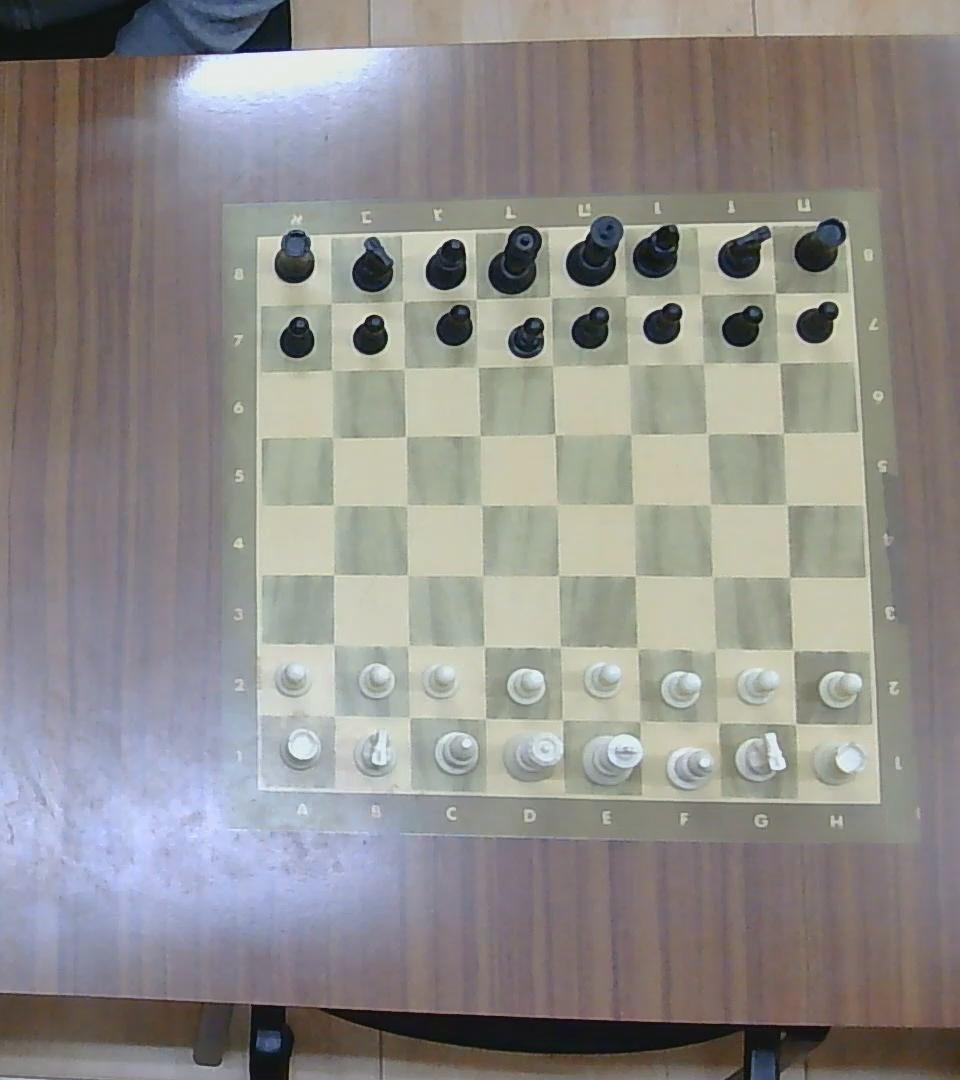xcorner: (777, 705, 811, 739), (619, 631, 653, 664), (622, 702, 656, 735), (701, 705, 734, 738), (545, 702, 578, 734), (543, 630, 575, 662), (696, 561, 729, 592), (318, 698, 350, 729), (469, 701, 500, 733), (392, 630, 423, 661), (774, 561, 805, 592), (698, 634, 730, 664), (619, 560, 650, 590), (393, 701, 423, 732), (468, 631, 499, 661), (776, 634, 807, 664), (543, 560, 573, 590), (317, 629, 347, 659), (467, 560, 496, 590), (319, 558, 348, 588), (619, 488, 649, 517), (459, 284, 489, 313), (542, 488, 572, 517), (535, 282, 565, 311), (615, 419, 645, 447), (393, 561, 422, 589), (611, 280, 639, 309), (537, 350, 566, 378), (464, 351, 492, 380), (319, 490, 348, 518), (467, 490, 495, 518), (614, 350, 642, 378), (316, 288, 345, 315), (772, 489, 801, 516), (317, 354, 345, 381), (317, 420, 345, 447), (695, 489, 723, 516), (540, 420, 568, 447), (693, 418, 721, 445), (393, 489, 420, 516), (769, 420, 797, 446), (465, 421, 493, 446), (392, 422, 418, 448), (688, 280, 714, 306), (390, 353, 415, 379), (390, 287, 415, 313), (761, 279, 787, 304), (690, 350, 715, 375), (766, 350, 791, 374)
